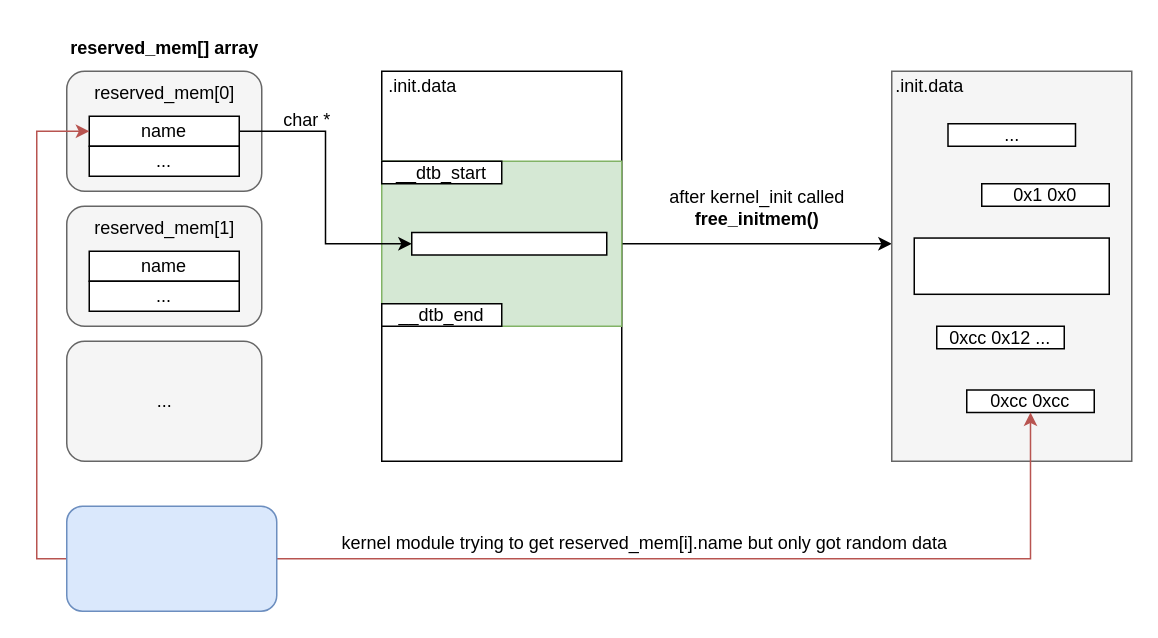
Image size: 1158x638. Some labels were removed from this diagram. The shapes that lost their labels are listed below. From the top down, each one's centre as x and y in pixels, then its label:
(508,243): "nonroot@0xc0000000"
(1011,265): poisoned memory data to avoid reuse
(171,558): hvisor-tool
